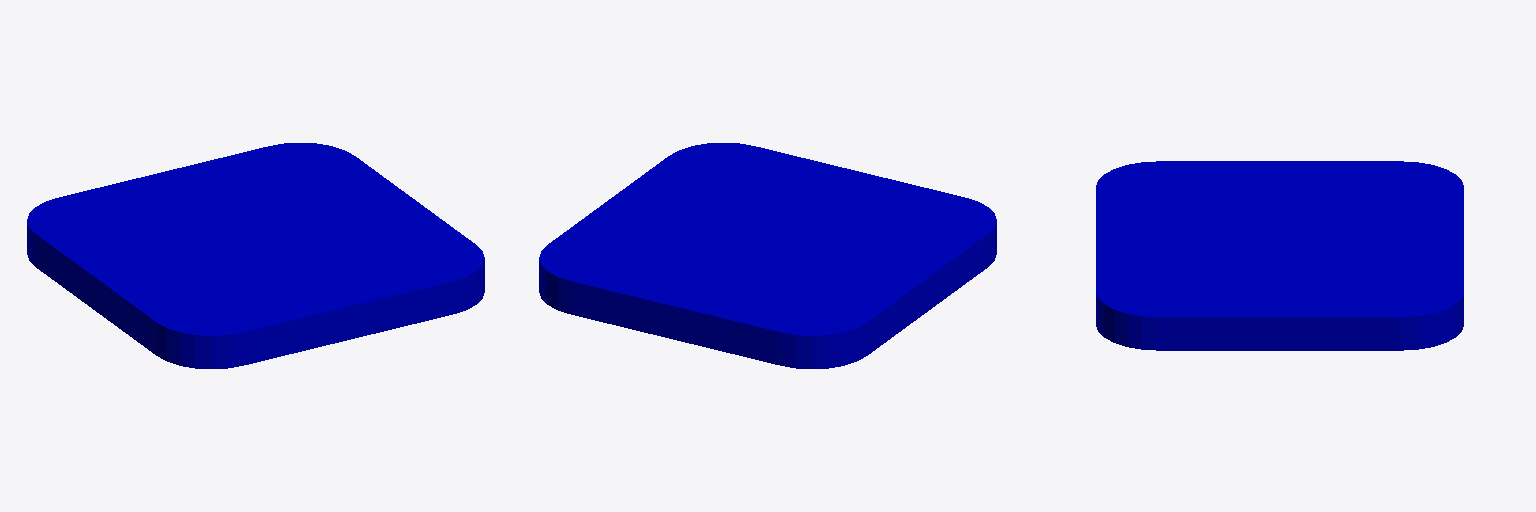
File: CaseMer.obj
The picture shows the model from 3 angles: view 1: azimuth 30°, elevation 25°; view 2: azimuth 150°, elevation 25°; view 3: azimuth 270°, elevation 25°; orthographic projection.
Parts seen in each view (by area): view 1: Water; view 2: Water; view 3: Water.
Boxes of the visible parts, x1,y1,x2,y2 form: Water: [27, 143, 484, 368]; Water: [539, 143, 996, 368]; Water: [1096, 161, 1463, 350].
Size of the model in its own units: 2 by 0.2 by 2.